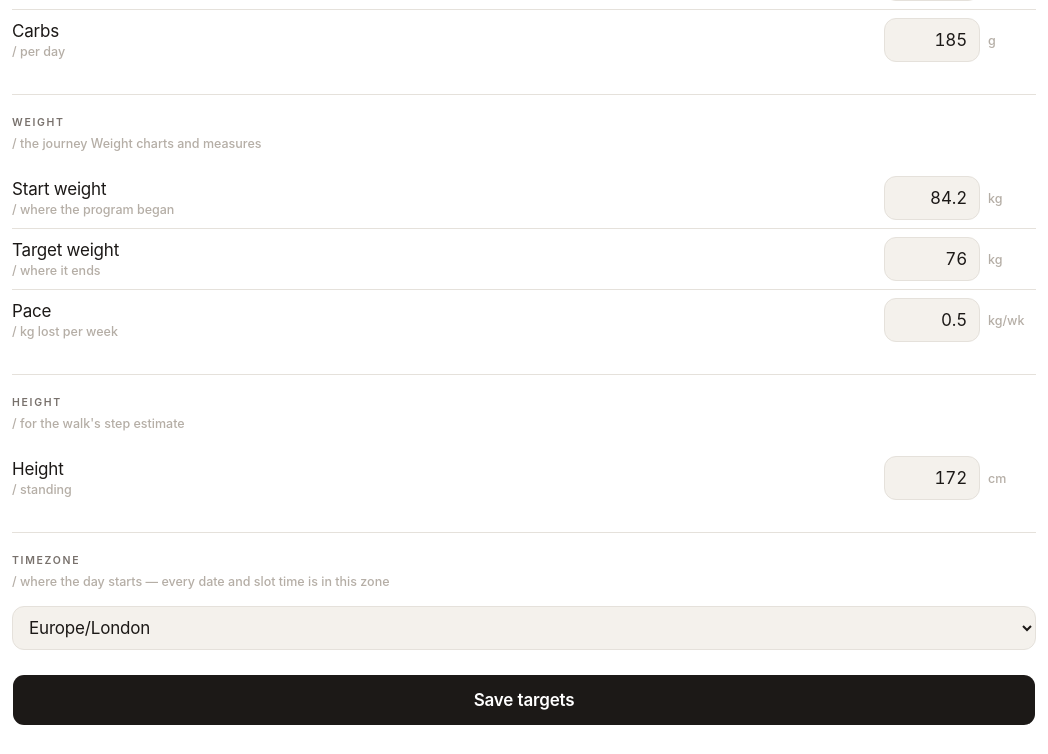
Test: saving › confirms a save inline
The width and height of the screenshot is (1048, 754).
(page scrolled)
Step 1. Click the button "Save targets" → (524, 700), box [12,674,1036,726]
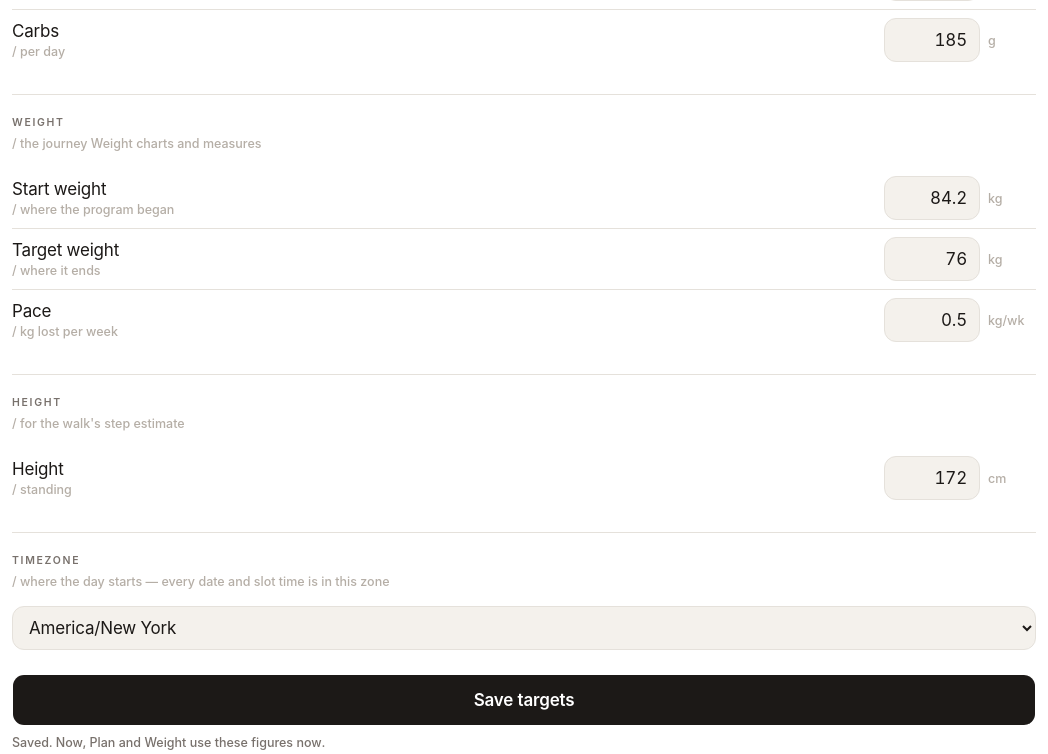
Expected: the text "Saved. Now, Plan and Weight use these figures now." is shown, [12,735,325,750]
